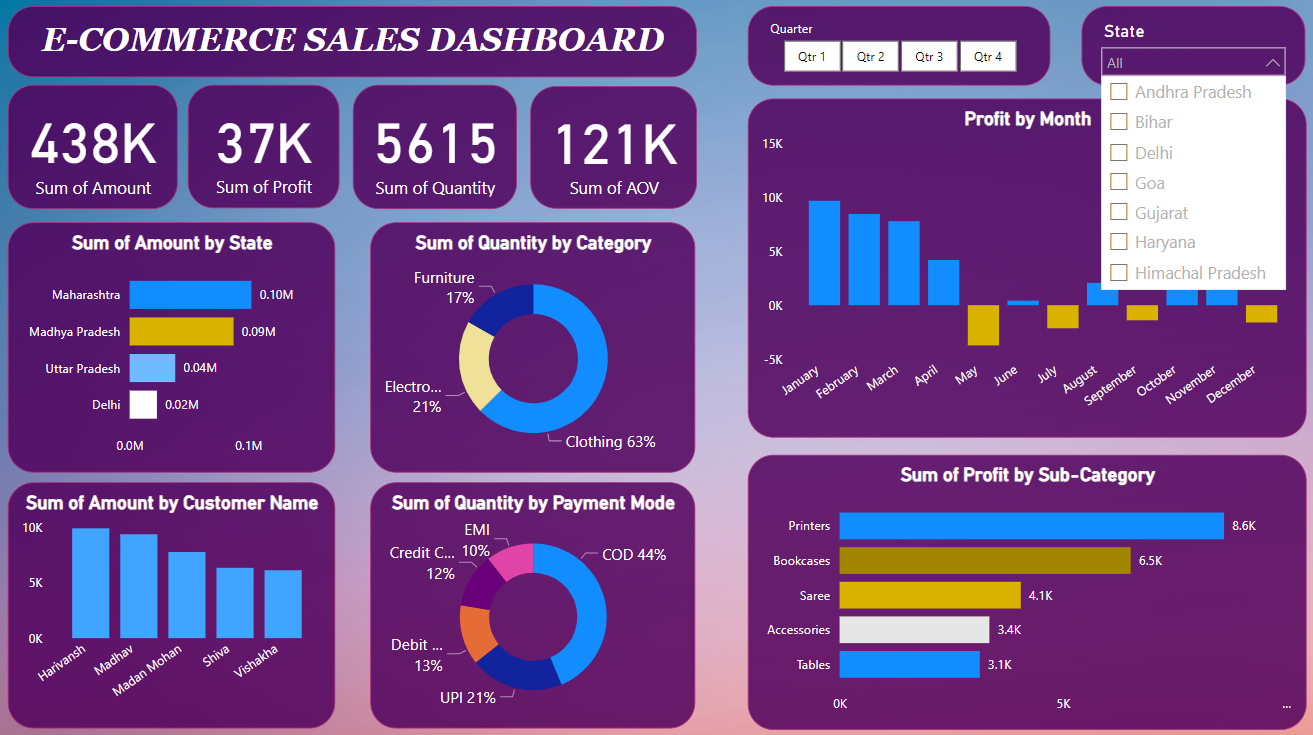

What the dashboard file says about the page in this screenshot:
{"tool":"powerbi","page":{"name":"Page 1","canvas":[1280,720],"ordinal":0},"visuals":[{"type":"textbox","box":[13.3,14.5,664.5,68.7],"z":0},{"type":"columnChart","title":"Profit by Month","fields":{"Category":["Orders.Order Date.Variation.Date Hierarchy.Month"],"Y":["Sum(Details.Profit)"]},"box":[727.2,103.7,539.1,326.8],"z":1000},{"type":"barChart","fields":{"Category":["Details.Sub-Category"],"Y":["Sum(Details.Profit)"]},"box":[726,445,539.1,266.5],"z":2000},{"type":"donutChart","fields":{"Category":["Details.Category"],"Y":["Sum(Details.Quantity)"]},"box":[363,223.1,313.6,241.2],"z":3000},{"type":"donutChart","title":"Sum of Quantity by Payment Mode","fields":{"Y":["Sum(Details.Quantity)"],"Category":["Details.PaymentMode"]},"box":[362.5,473.9,313.6,238.6],"z":4000},{"type":"card","fields":{"Values":["Sum(Details.Amount)"]},"box":[13,91,164,120],"z":5000},{"type":"card","fields":{"Values":["Sum(Details.Quantity)"]},"box":[346,90,158,120],"z":6000},{"type":"card","fields":{"Values":["Sum(Details.Profit)"]},"box":[187,91,146,119],"z":7000},{"type":"card","fields":{"Values":["Sum(Details.AOV)"]},"box":[517,92,161,118],"z":8000},{"type":"barChart","fields":{"Category":["Orders.State"],"Y":["Sum(Details.Amount)"]},"box":[13.3,223.1,316,241.2],"z":9000},{"type":"columnChart","title":"Sum of Amount by Customer Name","fields":{"Category":["Orders.CustomerName"],"Y":["Sum(Details.Amount)"]},"box":[13.6,473.9,315.9,238.6],"z":10000},{"type":"slicer","fields":{"Values":["Orders.Order Date.Variation.Date Hierarchy.Quarter"]},"box":[727.2,14.5,291.9,77.2],"z":11000},{"type":"slicer","fields":{"Values":["Orders.State"]},"box":[1049.2,14.5,215.9,77.2],"z":12000}]}

Visuals, with their boxes in screenshot pixels (x1, y1, x2, y2), scaled from the page's 1280x720 canvas onto the 1313x735 screenshot:
textbox: 14,15,695,85
"Profit by Month" columnChart: 746,106,1299,439
barChart - Details.Sub-Category x Sum(Details.Profit): 745,454,1298,726
donutChart - Details.Category x Sum(Details.Quantity): 372,228,694,474
"Sum of Quantity by Payment Mode" donutChart: 372,484,694,727
card - Sum(Details.Amount): 13,93,182,215
card - Sum(Details.Quantity): 355,92,517,214
card - Sum(Details.Profit): 192,93,342,214
card - Sum(Details.AOV): 530,94,695,214
barChart - Orders.State x Sum(Details.Amount): 14,228,338,474
"Sum of Amount by Customer Name" columnChart: 14,484,338,727
slicer - Orders.Order Date.Variation.Date Hierarchy.Quarter: 746,15,1045,94
slicer - Orders.State: 1076,15,1298,94
